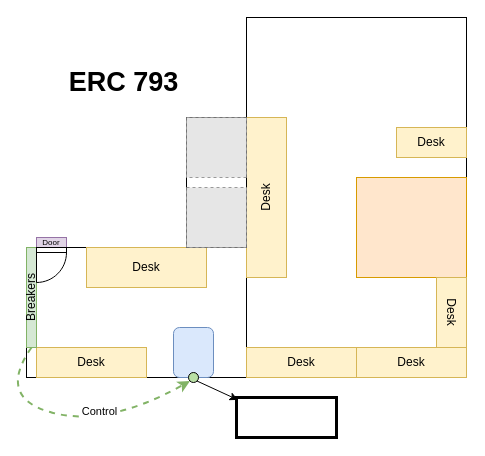
The diagram is 485 pixels wide and 456 high, and some of its shapes have lost their labels. Grey dashed boxes stand in for pictures. The shapes that lost their labels are listed below. From the top down, each one's box as (x1, y1, x2, y2) in pixels, then its label:
(356, 176, 466, 278): EV Charging Strategy Simulation
(172, 326, 214, 378): Water Heater System
(234, 396, 338, 438): 250V 30A Outlet L6-30-R
